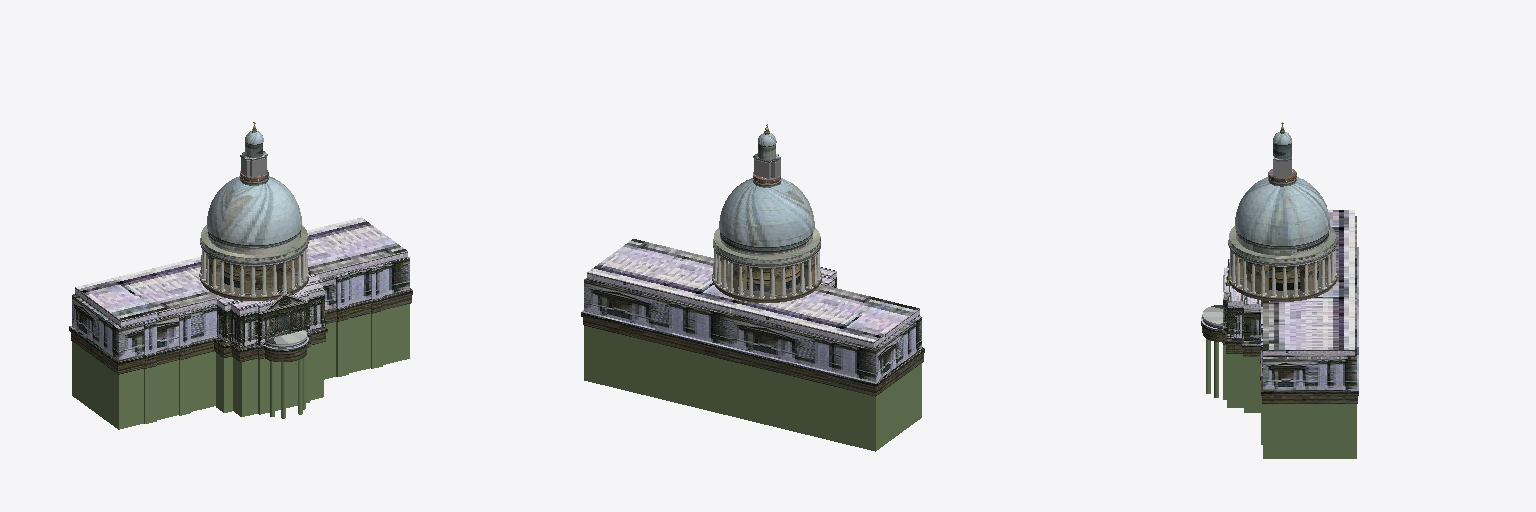
The picture shows the model from 3 angles: view 1: azimuth 30°, elevation 25°; view 2: azimuth 150°, elevation 25°; view 3: azimuth 270°, elevation 25°; orthographic projection.
Visible parts, largest first — view 1: Box22, Box31, GeoSphere01, Box30, Box11, Box20, Box21, Box18, frontdoorframe, MiddleDivider21, Box23, Cylindricalwall (+11 smaller); view 2: Box22, Box20, Box31, Box11, Box30, GeoSphere01, Box18, MiddleDivider21, MiddleDivider1, Cylindricalwall, Middle_Cylinder2, Cylinder02 (+1 smaller); view 3: Box30, Box20, GeoSphere01, Box18, Box31, Cylindricalwall, Box19, Box21, MiddleDivider1, Middle_Cylinder2, MiddleDivider21, Cylinder02 (+3 smaller).
Part boxes in pixels (left/top/right/bottom): Box22: left=72, top=341, right=215, bottom=429; Box31: left=75, top=257, right=220, bottom=327; GeoSphere01: left=207, top=176, right=301, bottom=244; Box30: left=307, top=217, right=407, bottom=278; Box11: left=72, top=294, right=216, bottom=360; Box20: left=324, top=304, right=409, bottom=379; Box21: left=233, top=342, right=323, bottom=416; Box18: left=321, top=257, right=409, bottom=309; frontdoorframe: left=258, top=347, right=309, bottom=414; MiddleDivider21: left=71, top=295, right=411, bottom=374; Box23: left=258, top=302, right=309, bottom=345; Cylindricalwall: left=201, top=225, right=307, bottom=262; Box22: left=730, top=361, right=921, bottom=451; Box20: left=584, top=326, right=729, bottom=415; Box31: left=731, top=284, right=919, bottom=348; Box11: left=730, top=315, right=921, bottom=381; Box30: left=587, top=239, right=739, bottom=313; GeoSphere01: left=719, top=178, right=814, bottom=246; Box18: left=584, top=278, right=730, bottom=346; MiddleDivider21: left=583, top=317, right=923, bottom=396; MiddleDivider1: left=581, top=310, right=924, bottom=387; Cylindricalwall: left=714, top=228, right=820, bottom=264; Middle_Cylinder2: left=720, top=232, right=812, bottom=256; Cylinder02: left=712, top=263, right=821, bottom=301; Box30: left=1263, top=280, right=1354, bottom=356; Box20: left=1263, top=404, right=1356, bottom=458; GeoSphere01: left=1235, top=177, right=1329, bottom=245; Box18: left=1263, top=287, right=1356, bottom=389; Box31: left=1328, top=210, right=1354, bottom=279; Cylindricalwall: left=1229, top=226, right=1335, bottom=263; Box19: left=1244, top=357, right=1260, bottom=412; Box21: left=1227, top=354, right=1243, bottom=407; MiddleDivider1: left=1261, top=247, right=1358, bottom=395; Middle_Cylinder2: left=1236, top=231, right=1328, bottom=255; MiddleDivider21: left=1262, top=396, right=1357, bottom=403; Cylinder02: left=1228, top=264, right=1336, bottom=300.
Size of the model in its own units: 35.4 by 30.58 by 16.4.
61 materials, 25 textured.